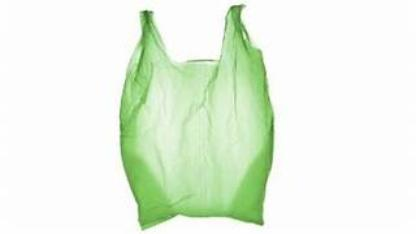Plastic Bag: (121, 5, 273, 228)
